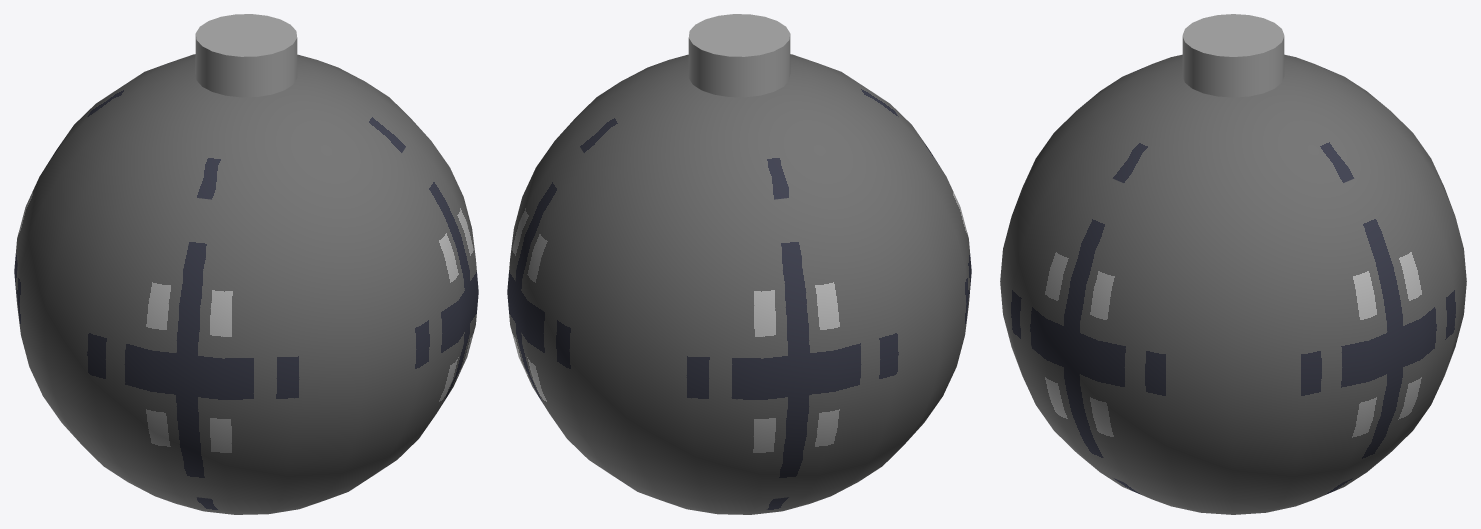
The model's file is Bomb.fbx.
The picture shows the model from 3 angles, left to right: view 1: azimuth 30°, elevation 25°; view 2: azimuth 150°, elevation 25°; view 3: azimuth 270°, elevation 25°; orthographic projection.
Visible parts, largest first — view 1: pSphere1, pCylinder1; view 2: pSphere1, pCylinder1; view 3: pSphere1, pCylinder1.
Boxes of the visible parts, left/top/right/bottom form: pSphere1: left=14, top=54, right=478, bottom=514; pCylinder1: left=195, top=14, right=297, bottom=97; pSphere1: left=507, top=54, right=971, bottom=514; pCylinder1: left=688, top=14, right=790, bottom=97; pSphere1: left=1000, top=54, right=1466, bottom=514; pCylinder1: left=1182, top=14, right=1284, bottom=97.
Size of the model in its own units: 2 by 2.16 by 2.
